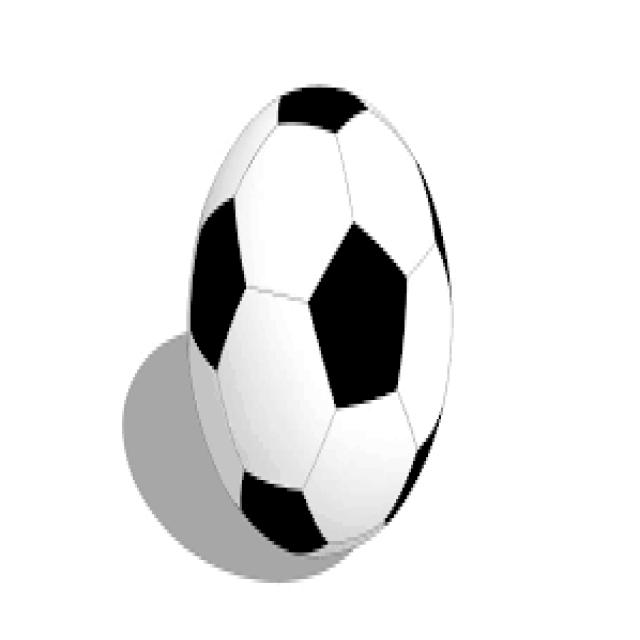football: (186, 80, 456, 552)
